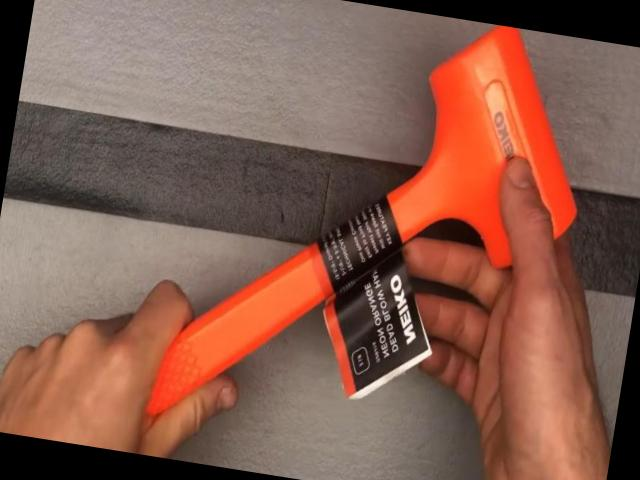hammer: (40, 0, 604, 480)
